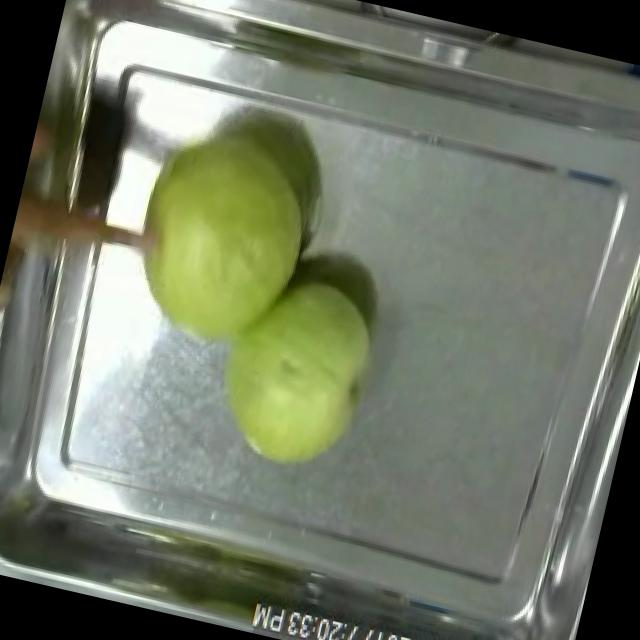Fruit: (105, 114, 335, 368), (191, 255, 400, 489)
